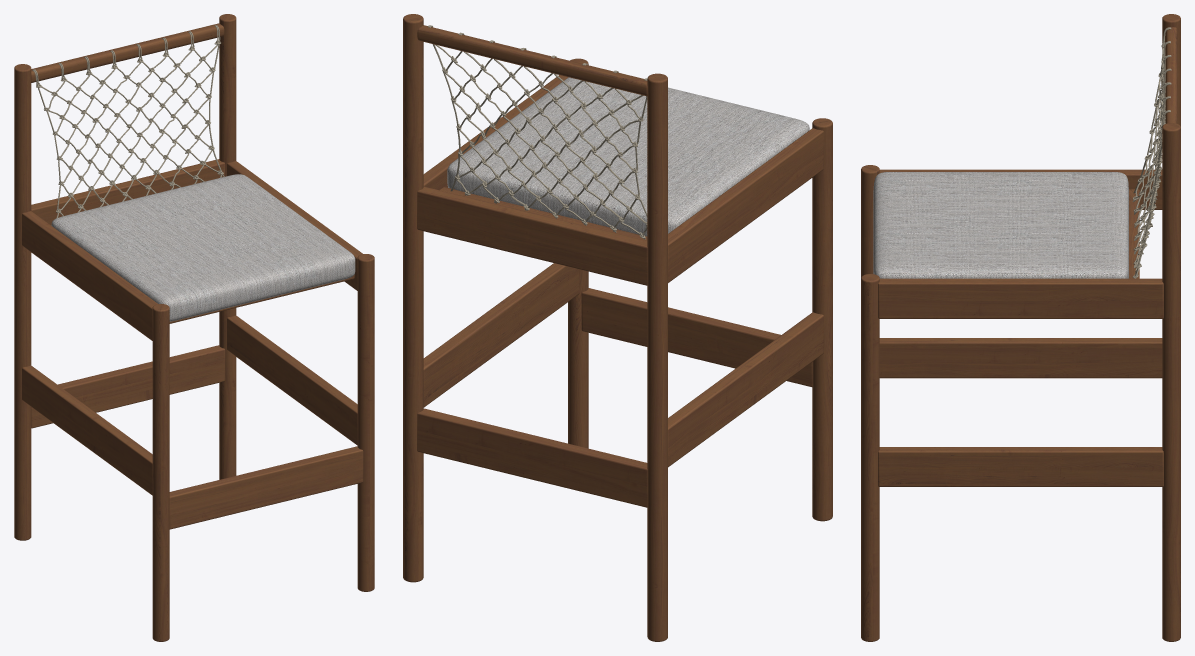
File: dragao-banqueta.glb
3 views of the same model, side by side, from view 1: azimuth 30°, elevation 25°; view 2: azimuth 150°, elevation 25°; view 3: azimuth 270°, elevation 25° (orthographic). The views are drawn at different scales.
Parts seen in each view (by area): view 1: Geom3D (×3); view 2: Geom3D (×3); view 3: Geom3D (×3).
Boxes of the visible parts, x1,y1,x2,y2 form: Geom3D (×3): (14,14,374,641); Geom3D (×3): (403,14,832,641); Geom3D (×3): (861,14,1180,641).
Bounding box in the file's own units: 0.4406 × 0.9 × 0.5097.
3 materials, 3 textured.
